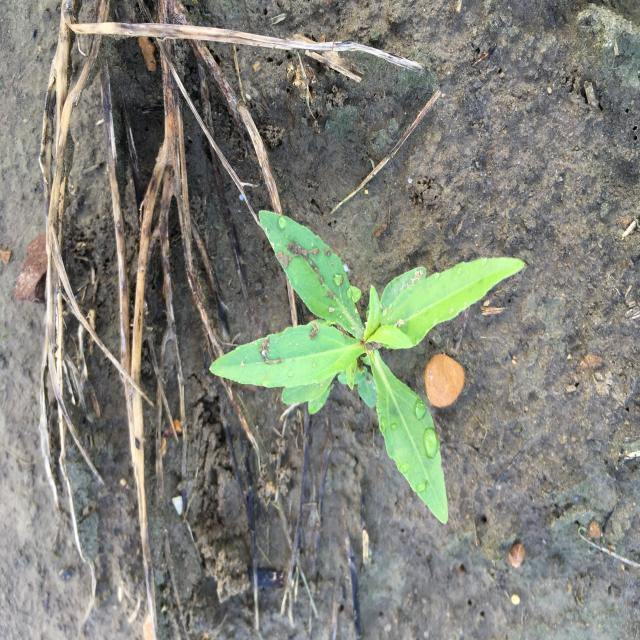Eclipta: (206, 205, 529, 528)
